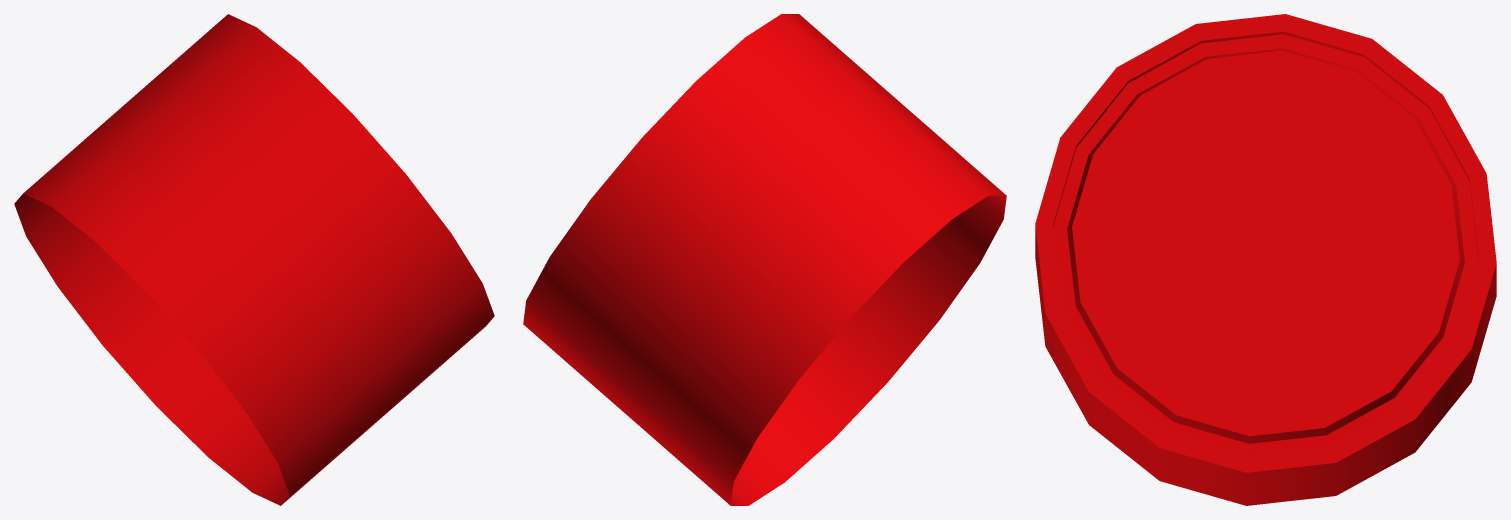
Rendered from lampion_rouge_synthe.fbx.
3 views of the same model, side by side, from view 1: azimuth 30°, elevation 25°; view 2: azimuth 150°, elevation 25°; view 3: azimuth 270°, elevation 25° (orthographic). The views are drawn at different scales.
Visible parts, largest first — view 1: lumiere_rouge; view 2: lumiere_rouge; view 3: lumiere_rouge.
Part boxes in pixels (<box>): lumiere_rouge: <box>14,14,494,505</box>; lumiere_rouge: <box>523,14,1006,505</box>; lumiere_rouge: <box>1035,14,1496,505</box>.
Size of the model in its own units: 0.0197 by 0.018 by 0.0217.
